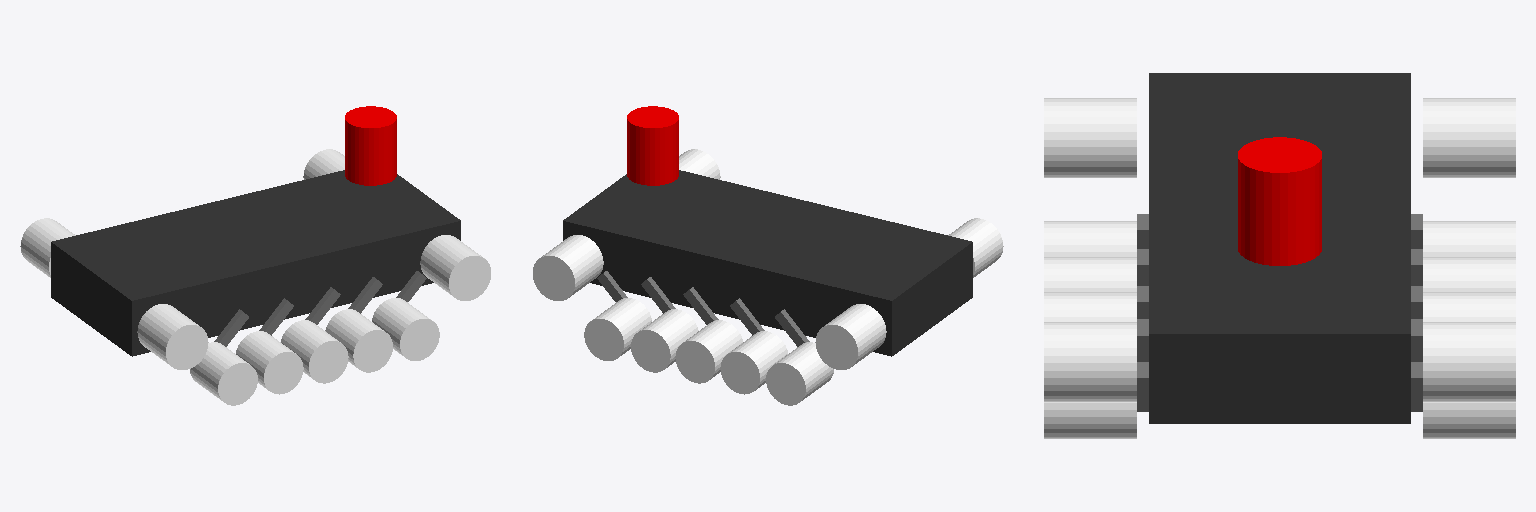
--- Render facts (derived) ---
3 views of the same robot in one strip: view 1: azimuth 30°, elevation 25°; view 2: azimuth 150°, elevation 25°; view 3: azimuth 270°, elevation 25° (orthographic).
Model uWABA with 27 links and 26 joints (10 revolute, 16 fixed), rooted at base_footprint, posed every joint at zero.
Links seen in each view (by area): view 1: base_link, laser_link, Right_wheel.006_link, Right_wheel_sprocket_link, Right_wheel.001_link, Right_wheel.005_link, Right_wheel.002_link, Right_wheel.003_link, Right_wheel.004_link, Left_wheel_sprocket_link, Left_wheel.006_link; view 2: base_link, laser_link, Left_wheel.006_link, Left_wheel_sprocket_link, Left_wheel.001_link, Left_wheel.005_link, Left_wheel.002_link, Left_wheel.003_link, Left_wheel.004_link, Right_wheel_sprocket_link, Right_wheel.006_link; view 3: base_link, laser_link, Left_wheel.006_link, Left_wheel_sprocket_link, Right_wheel.006_link, Right_wheel_sprocket_link, Left_wheel.005_link, Right_wheel.005_link, Left_wheel.001_link, Right_wheel.001_link, Left_wheel.002_link, Right_wheel.002_link (+4 smaller).
Link boxes in pixels (box(x1,y1,x2,y2)): base_link: box(51, 170, 460, 356); laser_link: box(345, 106, 396, 185); Right_wheel.006_link: box(420, 235, 490, 300); Right_wheel_sprocket_link: box(137, 304, 208, 369); Right_wheel.001_link: box(190, 342, 257, 405); Right_wheel.005_link: box(372, 298, 439, 360); Right_wheel.002_link: box(236, 331, 303, 394); Right_wheel.003_link: box(281, 320, 348, 383); Right_wheel.004_link: box(325, 309, 392, 372); Left_wheel_sprocket_link: box(20, 218, 75, 277); Left_wheel.006_link: box(303, 149, 344, 179); base_link: box(563, 170, 972, 356); laser_link: box(627, 106, 678, 185); Left_wheel.006_link: box(533, 235, 603, 300); Left_wheel_sprocket_link: box(815, 304, 886, 369); Left_wheel.001_link: box(766, 342, 833, 405); Left_wheel.005_link: box(584, 298, 651, 360); Left_wheel.002_link: box(720, 331, 787, 394); Left_wheel.003_link: box(675, 320, 742, 383); Left_wheel.004_link: box(631, 309, 698, 372); Right_wheel_sprocket_link: box(948, 218, 1003, 277); Right_wheel.006_link: box(679, 149, 720, 179); base_link: box(1149, 73, 1410, 423); laser_link: box(1238, 137, 1321, 265); Left_wheel.006_link: box(1423, 322, 1515, 401); Left_wheel_sprocket_link: box(1423, 98, 1515, 177); Right_wheel.006_link: box(1044, 322, 1136, 401); Right_wheel_sprocket_link: box(1044, 98, 1136, 177); Left_wheel.005_link: box(1423, 402, 1515, 438); Right_wheel.005_link: box(1044, 402, 1136, 438); Left_wheel.001_link: box(1423, 221, 1515, 256); Right_wheel.001_link: box(1044, 221, 1136, 256); Left_wheel.002_link: box(1423, 257, 1515, 291); Right_wheel.002_link: box(1044, 257, 1136, 291).
Bounding box of the posed robot: 0.248 × 0.1896 × 0.1328 m (x, y, z).
Geometry: primitives only (box / cylinder / sphere), no mesh files.

robot.urdf — uWABA:
<robot name="uWABA" version="1.0">

  <material name="grey">
    <color rgba="0.5 0.5 0.5 1" />
  </material>

  <material name="red">
    <color rgba="1 0 0 0.5" />
  </material>

  <material name="white">
    <color rgba="1 1 1 1" />
  </material>

  <material name="blue">
    <color rgba="0 0 0.5 1" />
  </material>

  <material name="black">
    <color rgba="0.25 0.25 0.25 1" />
  </material>

  <joint name="base_laser_joint" type="fixed">
    <origin rpy="0.0000000000 0.0000000000 0.0000000000" xyz="0.0865522291 -0.0000000015 0.0611436181"/>
    <parent link="base_link"/>
    <child link="laser_link"/>
  </joint>
  <joint name="base_left_small_suspesion.001_joint" type="revolute">
    <limit lower="-0.0872664973" upper="0.0872664973" effort="0.0000000000" velocity="0.0000000000"/>
    <origin rpy="0.0000000000 0.0000000000 0.0000000000" xyz="0.0426865297 0.0552990415 -0.0245030019"/>
    <parent link="base_link"/>
    <child link="Left_small_wheels_frame.001_link"/>
    <axis xyz="0.0000000000 1.0000000000 0.0000000000"/>
  </joint>
  <joint name="base_left_small_suspesion.002_joint" type="revolute">
    <limit lower="-0.0872664973" upper="0.0872664973" effort="0.0000000000" velocity="0.0000000000"/>
    <origin rpy="0.0000000000 0.0000000000 0.0000000000" xyz="0.0108365280 0.0552989968 -0.0245032571"/>
    <parent link="base_link"/>
    <child link="Left_small_wheels_frame.002_link"/>
    <axis xyz="0.0000000000 1.0000000000 0.0000000000"/>
  </joint>
  <joint name="base_left_small_suspesion.003_joint" type="revolute">
    <limit lower="-0.0872664973" upper="0.0872664973" effort="0.0000000000" velocity="0.0000000000"/>
    <origin rpy="0.0000000000 0.0000000000 0.0000000000" xyz="-0.0242170148 0.0552989968 -0.0245032609"/>
    <parent link="base_link"/>
    <child link="Left_small_wheels_frame.003_link"/>
    <axis xyz="0.0000000000 1.0000000000 0.0000000000"/>
  </joint>
  <joint name="base_left_small_suspesion.004_joint" type="revolute">
    <limit lower="-0.0872664973" upper="0.0872664973" effort="0.0000000000" velocity="0.0000000000"/>
    <origin rpy="0.0000000000 0.0000000000 0.0000000000" xyz="-0.0579519530 0.0552990266 -0.0245032683"/>
    <parent link="base_link"/>
    <child link="Left_small_wheels_frame.004_link"/>
    <axis xyz="0.0000000000 1.0000000000 0.0000000000"/>
  </joint>
  <joint name="base_left_small_suspesion_joint" type="revolute">
    <limit lower="-0.0872664973" upper="0.0872664973" effort="0.0000000000" velocity="0.0000000000"/>
    <origin rpy="0.0000000000 0.0000000000 0.0000000000" xyz="0.0790596123 0.0552990415 -0.0245032590"/>
    <parent link="base_link"/>
    <child link="Left_small_wheels_frame_link"/>
    <axis xyz="0.0000000000 1.0000000000 0.0000000000"/>
  </joint>
  <joint name="base_left_wheel.001_joint" type="fixed">
    <origin rpy="0.0000000000 0.0000000000 0.0000000000" xyz="-0.0102820545 0.0209509507 -0.0114647429"/>
    <parent link="Left_small_wheels_frame.004_link"/>
    <child link="Left_wheel.001_link"/>
  </joint>
  <joint name="base_left_wheel.002_joint" type="fixed">
    <origin rpy="0.0000000000 0.0000000000 0.0000000000" xyz="-0.0096230004 0.0209509805 -0.0114647467"/>
    <parent link="Left_small_wheels_frame.003_link"/>
    <child link="Left_wheel.002_link"/>
  </joint>
  <joint name="base_left_wheel.003_joint" type="fixed">
    <origin rpy="0.0000000000 0.0000000000 0.0000000000" xyz="-0.0108365483 0.0209509954 -0.0114647485"/>
    <parent link="Left_small_wheels_frame.002_link"/>
    <child link="Left_wheel.003_link"/>
  </joint>
  <joint name="base_left_wheel.004_joint" type="fixed">
    <origin rpy="0.0000000000 0.0000000000 0.0000000000" xyz="-0.0091175586 0.0209509358 -0.0114649981"/>
    <parent link="Left_small_wheels_frame.001_link"/>
    <child link="Left_wheel.004_link"/>
  </joint>
  <joint name="base_left_wheel.005_joint" type="fixed">
    <origin rpy="0.0000000000 0.0000000000 0.0000000000" xyz="-0.0103706270 0.0209509507 -0.0114647523"/>
    <parent link="Left_small_wheels_frame_link"/>
    <child link="Left_wheel.005_link"/>
  </joint>
  <joint name="base_left_wheel.006_joint" type="fixed">
    <origin rpy="0.0000000000 0.0000000000 0.0000000000" xyz="0.1065519790 0.0762500145 -0.0005410053"/>
    <parent link="base_link"/>
    <child link="Left_wheel.006_link"/>
  </joint>
  <joint name="base_left_wheel_sprocket_joint" type="fixed">
    <origin rpy="0.0000000000 0.0000000000 0.0000000000" xyz="-0.1065520157 0.0762499996 -0.0005410016"/>
    <parent link="base_link"/>
    <child link="Left_wheel_sprocket_link"/>
  </joint>
  <joint name="base_link_joint" type="fixed">
    <origin rpy="0.0000000000 0.0000000000 0.0000000000" xyz="0.0000000109 0.0000000022 0.0532330014"/>
    <parent link="base_footprint"/>
    <child link="base_link"/>
  </joint>
  <joint name="base_right_small_suspesion.001_joint" type="revolute">
    <limit lower="-0.0872664973" upper="0.0872664973" effort="0.0000000000" velocity="0.0000000000"/>
    <origin rpy="0.0000000000 0.0000000000 0.0000000000" xyz="0.0426865372 -0.0552989601 -0.0245032553"/>
    <parent link="base_link"/>
    <child link="Right_small_wheels_frame.001_link"/>
    <axis xyz="0.0000000000 1.0000000000 0.0000000000"/>
  </joint>
  <joint name="base_right_small_suspesion.002_joint" type="revolute">
    <limit lower="-0.0872664973" upper="0.0872664973" effort="0.0000000000" velocity="0.0000000000"/>
    <origin rpy="0.0000000000 0.0000000000 0.0000000000" xyz="0.0108365354 -0.0552990123 -0.0245032609"/>
    <parent link="base_link"/>
    <child link="Right_small_wheels_frame.002_link"/>
    <axis xyz="0.0000000000 1.0000000000 0.0000000000"/>
  </joint>
  <joint name="base_right_small_suspesion.003_joint" type="revolute">
    <limit lower="-0.0872664973" upper="0.0872664973" effort="0.0000000000" velocity="0.0000000000"/>
    <origin rpy="0.0000000000 0.0000000000 0.0000000000" xyz="-0.0242173222 -0.0552990048 -0.0245032609"/>
    <parent link="base_link"/>
    <child link="Right_small_wheels_frame.003_link"/>
    <axis xyz="0.0000000000 1.0000000000 0.0000000000"/>
  </joint>
  <joint name="base_right_small_suspesion.004_joint" type="revolute">
    <limit lower="-0.0872664973" upper="0.0872664973" effort="0.0000000000" velocity="0.0000000000"/>
    <origin rpy="0.0000000000 0.0000000000 0.0000000000" xyz="-0.0579519418 -0.0552989638 -0.0245032646"/>
    <parent link="base_link"/>
    <child link="Right_small_wheels_frame.004_link"/>
    <axis xyz="0.0000000000 1.0000000000 0.0000000000"/>
  </joint>
  <joint name="base_right_small_suspesion_joint" type="revolute">
    <limit lower="-0.0872664973" upper="0.0872664973" effort="0.0000000000" velocity="0.0000000000"/>
    <origin rpy="0.0000000000 0.0000000000 0.0000000000" xyz="0.0790596197 -0.0552989564 -0.0245032609"/>
    <parent link="base_link"/>
    <child link="Right_small_wheels_frame_link"/>
    <axis xyz="0.0000000000 1.0000000000 0.0000000000"/>
  </joint>
  <joint name="base_right_wheel.001_joint" type="fixed">
    <origin rpy="0.0000000000 0.0000000000 0.0000000000" xyz="-0.0102820508 -0.0209510401 -0.0114647429"/>
    <parent link="Right_small_wheels_frame.004_link"/>
    <child link="Right_wheel.001_link"/>
  </joint>
  <joint name="base_right_wheel.002_joint" type="fixed">
    <origin rpy="0.0000000000 0.0000000000 0.0000000000" xyz="-0.0096226707 -0.0209510215 -0.0114647485"/>
    <parent link="Right_small_wheels_frame.003_link"/>
    <child link="Right_wheel.002_link"/>
  </joint>
  <joint name="base_right_wheel.003_joint" type="fixed">
    <origin rpy="0.0000000000 0.0000000000 0.0000000000" xyz="-0.0108365374 -0.0209509768 -0.0114647448"/>
    <parent link="Right_small_wheels_frame.002_link"/>
    <child link="Right_wheel.003_link"/>
  </joint>
  <joint name="base_right_wheel.004_joint" type="fixed">
    <origin rpy="0.0000000000 0.0000000000 0.0000000000" xyz="-0.0091175474 -0.0209510438 -0.0114647504"/>
    <parent link="Right_small_wheels_frame.001_link"/>
    <child link="Right_wheel.004_link"/>
  </joint>
  <joint name="base_right_wheel.005_joint" type="fixed">
    <origin rpy="0.0000000000 0.0000000000 0.0000000000" xyz="-0.0103706494 -0.0209510326 -0.0114647336"/>
    <parent link="Right_small_wheels_frame_link"/>
    <child link="Right_wheel.005_link"/>
  </joint>
  <joint name="base_right_wheel.006_joint" type="fixed">
    <origin rpy="0.0000000000 0.0000000000 0.0000000000" xyz="0.1065519939 -0.0762499890 -0.0005410090"/>
    <parent link="base_link"/>
    <child link="Right_wheel.006_link"/>
  </joint>
  <joint name="base_right_wheel_sprocket_joint" type="fixed">
    <origin rpy="0.0000000000 0.0000000000 0.0000000000" xyz="-0.1065520083 -0.0762500114 -0.0005410053"/>
    <parent link="base_link"/>
    <child link="Right_wheel_sprocket_link"/>
  </joint>
  <link name="Left_small_wheels_frame.001_link">
    <collision name="Left_small_wheels_frame.001_collision">
      <origin rpy="0.0000000000 -0.7853982406 0.0000000000" xyz="0.0000000037 -0.0000000037 0.0000000000"/>
      <geometry>
        <box size="0.0494383872 0.0048000002 0.0069306139"/>
      </geometry>
    </collision>
    <inertial>
      <inertia ixx="0.0000010576" ixy="0.0000000000" ixz="-0.0000009984" iyy="0.0000020768" iyz="0.0000000000" izz="0.0000010576"/>
      <origin rpy="0.0000000000 0.0000000000 0.0000000000" xyz="0.0000000037 -0.0000000037 0.0000000000"/>
      <mass value="0.0099999998"/>
    </inertial>
    <visual name="Left_small_wheels_frame.001">
      <material name="grey" />
      <origin rpy="0.0000000000 -0.7853981563 0.0000000000" xyz="0.0000000037 -0.0000000037 0.0000000000"/>
      <geometry>
        <box size="0.0494383872 0.0048000002 0.0069306139"/>
      </geometry>
    </visual>
  </link>
  <link name="Left_small_wheels_frame.002_link">
    <collision name="Left_small_wheels_frame.002_collision">
      <origin rpy="0.0000000000 -0.7853982406 0.0000000000" xyz="0.0000000009 0.0000000037 0.0000000019"/>
      <geometry>
        <box size="0.0494383946 0.0048000012 0.0069306139"/>
      </geometry>
    </collision>
    <inertial>
      <inertia ixx="0.0000010576" ixy="0.0000000000" ixz="-0.0000009984" iyy="0.0000020768" iyz="0.0000000000" izz="0.0000010576"/>
      <origin rpy="0.0000000000 0.0000000000 0.0000000000" xyz="0.0000000019 0.0000000037 0.0000000019"/>
      <mass value="0.0099999998"/>
    </inertial>
    <visual name="Left_small_wheels_frame.002">
      <material name="grey" />
      <origin rpy="0.0000000000 -0.7853981563 0.0000000000" xyz="0.0000000019 0.0000000037 0.0000000019"/>
      <geometry>
        <box size="0.0494383946 0.0048000016 0.0069306139"/>
      </geometry>
    </visual>
  </link>
  <link name="Left_small_wheels_frame.003_link">
    <collision name="Left_small_wheels_frame.003_collision">
      <origin rpy="0.0000000000 -0.7853982406 0.0000000000" xyz="0.0000000000 0.0000000037 0.0000000019"/>
      <geometry>
        <box size="0.0494383872 0.0047999993 0.0069306139"/>
      </geometry>
    </collision>
    <inertial>
      <inertia ixx="0.0000010576" ixy="0.0000000000" ixz="-0.0000009984" iyy="0.0000020768" iyz="0.0000000000" izz="0.0000010576"/>
      <origin rpy="0.0000000000 0.0000000000 0.0000000000" xyz="0.0000000000 0.0000000037 0.0000000019"/>
      <mass value="0.0099999998"/>
    </inertial>
    <visual name="Left_small_wheels_frame.003">
      <material name="grey" />
      <origin rpy="0.0000000000 -0.7853981563 0.0000000000" xyz="0.0000000000 0.0000000037 0.0000000019"/>
      <geometry>
        <box size="0.0494383872 0.0047999993 0.0069306139"/>
      </geometry>
    </visual>
  </link>
  <link name="Left_small_wheels_frame.004_link">
    <collision name="Left_small_wheels_frame.004_collision">
      <origin rpy="-0.0000000000 -0.7853982755 -0.0000000000" xyz="-0.0000000037 0.0000000037 0.0000000037"/>
      <geometry>
        <box size="0.0494383946 0.0048000002 0.0069306148"/>
      </geometry>
    </collision>
    <inertial>
      <inertia ixx="0.0000010576" ixy="0.0000000000" ixz="-0.0000009984" iyy="0.0000020768" iyz="0.0000000000" izz="0.0000010576"/>
      <origin rpy="0.0000000000 0.0000000000 0.0000000000" xyz="-0.0000000037 0.0000000037 0.0000000019"/>
      <mass value="0.0099999998"/>
    </inertial>
    <visual name="Left_small_wheels_frame.004">
      <material name="grey" />
      <origin rpy="-0.0000000000 -0.7853983351 -0.0000000000" xyz="-0.0000000037 0.0000000037 0.0000000019"/>
      <geometry>
        <box size="0.0494383872 0.0047999998 0.0069306134"/>
      </geometry>
    </visual>
  </link>
  <link name="Left_small_wheels_frame_link">
    <collision name="Left_small_wheels_frame_collision">
      <origin rpy="0.0000000000 -0.7853982406 0.0000000000" xyz="0.0000000075 0.0000000037 0.0000000019"/>
      <geometry>
        <box size="0.0400260091 0.0048000002 0.0069306148"/>
      </geometry>
    </collision>
    <inertial>
      <inertia ixx="0.0000007067" ixy="0.0000000000" ixz="-0.0000006475" iyy="0.0000013751" iyz="0.0000000000" izz="0.0000007067"/>
      <origin rpy="0.0000000000 0.0000000000 0.0000000000" xyz="0.0000000075 0.0000000037 0.0000000019"/>
      <mass value="0.0099999998"/>
    </inertial>
    <visual name="Left_small_wheels_frame">
      <material name="grey" />
      <origin rpy="0.0000000000 -0.7853982406 0.0000000000" xyz="0.0000000075 0.0000000037 0.0000000019"/>
      <geometry>
        <box size="0.0400260054 0.0048000012 0.0069306139"/>
      </geometry>
    </visual>
  </link>
  <link name="Left_wheel.001_link">
    <collision name="Left_wheel.001_collision">
      <origin rpy="-1.5707960129 -0.0000000000 0.0000000000" xyz="0.0000000000 -0.0000000224 0.0000000019"/>
      <geometry>
        <cylinder radius="0.0150000015" length="0.0370999947"/>
      </geometry>
    </collision>
    <inertial>
      <inertia ixx="0.0000085475" ixy="0.0000000000" ixz="-0.0000000000" iyy="0.0000056250" iyz="-0.0000000000" izz="0.0000085475"/>
      <origin rpy="0.0000000000 0.0000000000 0.0000000000" xyz="0.0000000000 -0.0000000224 0.0000000019"/>
      <mass value="0.0500000007"/>
    </inertial>
    <visual name="Left_wheel.001">
      <material name="white" />
      <origin rpy="-1.5707960129 -0.0000000000 0.0000000000" xyz="0.0000000000 -0.0000000224 0.0000000019"/>
      <geometry>
        <cylinder radius="0.0149999978" length="0.0370999910"/>
      </geometry>
    </visual>
  </link>
  <link name="Left_wheel.002_link">
    <collision name="Left_wheel.002_collision">
      <origin rpy="-1.5707960129 -0.0000000000 0.0000000000" xyz="0.0000000000 -0.0000000224 0.0000000056"/>
      <geometry>
        <cylinder radius="0.0150000015" length="0.0370999947"/>
      </geometry>
    </collision>
    <inertial>
      <inertia ixx="0.0000085475" ixy="-0.0000000000" ixz="0.0000000000" iyy="0.0000056250" iyz="-0.0000000000" izz="0.0000085475"/>
      <origin rpy="0.0000000000 0.0000000000 0.0000000000" xyz="0.0000000000 -0.0000000224 0.0000000056"/>
      <mass value="0.0500000007"/>
    </inertial>
    <visual name="Left_wheel.002">
      <material name="white" />
      <origin rpy="-1.5707960129 -0.0000000000 0.0000000000" xyz="0.0000000000 -0.0000000224 0.0000000056"/>
      <geometry>
        <cylinder radius="0.0149999978" length="0.0370999910"/>
      </geometry>
    </visual>
  </link>
  <link name="Left_wheel.003_link">
    <collision name="Left_wheel.003_collision">
      <origin rpy="-1.5707960129 -0.0000000000 0.0000000000" xyz="0.0000000000 -0.0000000224 -0.0000000037"/>
      <geometry>
        <cylinder radius="0.0150000015" length="0.0370999984"/>
      </geometry>
    </collision>
    <inertial>
      <inertia ixx="0.0000085475" ixy="-0.0000000000" ixz="0.0000000000" iyy="0.0000056250" iyz="-0.0000000000" izz="0.0000085475"/>
      <origin rpy="0.0000000000 0.0000000000 0.0000000000" xyz="0.0000000000 -0.0000000224 -0.0000000019"/>
      <mass value="0.0500000007"/>
    </inertial>
    <visual name="Left_wheel.003">
      <material name="white" />
      <origin rpy="-1.5707960129 -0.0000000000 0.0000000000" xyz="0.0000000000 -0.0000000224 -0.0000000019"/>
      <geometry>
        <cylinder radius="0.0149999969" length="0.0370999910"/>
      </geometry>
    </visual>
  </link>
  <link name="Left_wheel.004_link">
    <collision name="Left_wheel.004_collision">
      <origin rpy="-1.5707960129 -0.0000000000 0.0000000000" xyz="0.0000000000 -0.0000000149 0.0000000019"/>
      <geometry>
        <cylinder radius="0.0150000015" length="0.0370999947"/>
      </geometry>
    </collision>
    <inertial>
      <inertia ixx="0.0000085475" ixy="-0.0000000000" ixz="0.0000000000" iyy="0.0000056250" iyz="-0.0000000000" izz="0.0000085475"/>
      <origin rpy="0.0000000000 0.0000000000 0.0000000000" xyz="0.0000000000 -0.0000000149 0.0000000019"/>
      <mass value="0.0500000007"/>
    </inertial>
    <visual name="Left_wheel.004">
      <material name="white" />
      <origin rpy="-1.5707960129 -0.0000000000 0.0000000000" xyz="0.0000000000 -0.0000000149 0.0000000019"/>
      <geometry>
        <cylinder radius="0.0149999987" length="0.0370999910"/>
      </geometry>
    </visual>
  </link>
  <link name="Left_wheel.005_link">
    <collision name="Left_wheel.005_collision">
      <origin rpy="-1.5707960129 -0.0000000000 0.0000000000" xyz="0.0000000075 -0.0000000075 -0.0000000037"/>
      <geometry>
        <cylinder radius="0.0150000015" length="0.0370999947"/>
      </geometry>
    </collision>
    <inertial>
      <inertia ixx="0.0000085475" ixy="-0.0000000000" ixz="0.0000000000" iyy="0.0000056250" iyz="-0.0000000000" izz="0.0000085475"/>
      <origin rpy="0.0000000000 0.0000000000 0.0000000000" xyz="0.0000000075 -0.0000000075 -0.0000000037"/>
      <mass value="0.0500000007"/>
    </inertial>
    <visual name="Left_wheel.005">
      <material name="white" />
      <origin rpy="-1.5707960129 -0.0000000000 0.0000000000" xyz="0.0000000075 -0.0000000075 -0.0000000037"/>
      <geometry>
        <cylinder radius="0.0150000006" length="0.0370999947"/>
      </geometry>
    </visual>
  </link>
  <link name="Left_wheel.006_link">
    <collision name="Left_wheel.006_collision">
      <origin rpy="-1.5707956553 0.0000000000 0.0000000000" xyz="0.0000000000 -0.0000000075 0.0000000000"/>
      <geometry>
        <cylinder radius="0.0161000006" length="0.0371000022"/>
      </geometry>
    </collision>
    <inertial>
      <inertia ixx="0.0000089752" ixy="0.0000000000" ixz="0.0000000000" iyy="0.0000064803" iyz="-0.0000000000" izz="0.0000089752"/>
      <origin rpy="0.0000000000 0.0000000000 0.0000000000" xyz="0.0000000000 -0.0000000075 0.0000000000"/>
      <mass value="0.0500000007"/>
    </inertial>
    <visual name="Left_wheel.006">
      <material name="white" />
      <origin rpy="-1.5707956553 0.0000000000 0.0000000000" xyz="0.0000000000 -0.0000000075 0.0000000000"/>
      <geometry>
        <cylinder radius="0.0161000006" length="0.0370999984"/>
      </geometry>
    </visual>
  </link>
  <link name="Left_wheel_sprocket_link">
    <collision name="Left_wheel_sprocket_collision">
      <origin rpy="-1.5707956553 0.0000000000 0.0000000000" xyz="0.0000000000 0.0000000000 -0.0000000075"/>
      <geometry>
        <cylinder radius="0.0161000006" length="0.0371000022"/>
      </geometry>
    </collision>
    <inertial>
      <inertia ixx="0.0000089752" ixy="0.0000000000" ixz="0.0000000000" iyy="0.0000064803" iyz="-0.0000000000" izz="0.0000089752"/>
      <origin rpy="0.0000000000 0.0000000000 0.0000000000" xyz="0.0000000000 0.0000000000 -0.0000000075"/>
      <mass value="0.0500000007"/>
    </inertial>
    <visual name="Left_wheel_sprocket">
      <material name="white" />
      <origin rpy="-1.5707956553 0.0000000000 0.0000000000" xyz="0.0000000000 0.0000000000 -0.0000000075"/>
      <geometry>
        <cylinder radius="0.0161000006" length="0.0370999984"/>
      </geometry>
    </visual>
  </link>
  <link name="Right_small_wheels_frame.001_link">
    <collision name="Right_small_wheels_frame.001_collision">
      <origin rpy="-0.0000000000 -0.7853982406 0.0000000000" xyz="0.0000000000 -0.0000000037 0.0000000037"/>
      <geometry>
        <box size="0.0494383946 0.0048000067 0.0069306148"/>
      </geometry>
    </collision>
    <inertial>
      <inertia ixx="0.0000010576" ixy="-0.0000000000" ixz="-0.0000009984" iyy="0.0000020768" iyz="-0.0000000000" izz="0.0000010576"/>
      <origin rpy="0.0000000000 0.0000000000 0.0000000000" xyz="0.0000000000 -0.0000000037 0.0000000037"/>
      <mass value="0.0099999998"/>
    </inertial>
    <visual name="Right_small_wheels_frame.001">
      <material name="grey" />
      <origin rpy="-0.0000000000 -0.7853982406 0.0000000000" xyz="0.0000000000 -0.0000000037 0.0000000037"/>
      <geometry>
        <box size="0.0494383872 0.0048000072 0.0069306139"/>
      </geometry>
    </visual>
  </link>
  <link name="Right_small_wheels_frame.002_link">
    <collision name="Right_small_wheels_frame.002_collision">
      <origin rpy="0.0000000000 -0.7853982406 0.0000000000" xyz="-0.0000000009 -0.0000000037 0.0000000019"/>
      <geometry>
        <box size="0.0494383946 0.0048000012 0.0069306139"/>
      </geometry>
    </collision>
    <inertial>
      <inertia ixx="0.0000010576" ixy="0.0000000000" ixz="-0.0000009984" iyy="0.0000020768" iyz="0.0000000000" izz="0.0000010576"/>
      <origin rpy="0.0000000000 0.0000000000 0.0000000000" xyz="0.0000000000 -0.0000000037 0.0000000019"/>
      <mass value="0.0099999998"/>
    </inertial>
    <visual name="Right_small_wheels_frame.002">
      <material name="grey" />
      <origin rpy="0.0000000000 -0.7853981563 0.0000000000" xyz="0.0000000000 -0.0000000037 0.0000000019"/>
      <geometry>
        <box size="0.0494383946 0.0048000016 0.0069306139"/>
      </geometry>
    </visual>
  </link>
  <link name="Right_small_wheels_frame.003_link">
    <collision name="Right_small_wheels_frame.003_collision">
      <origin rpy="-0.0000000000 -0.7853982406 0.0000000000" xyz="0.0000000000 -0.0000000037 0.0000000019"/>
      <geometry>
        <box size="0.0494383946 0.0047999993 0.0069306148"/>
      </geometry>
    </collision>
    <inertial>
      <inertia ixx="0.0000010576" ixy="-0.0000000000" ixz="-0.0000009984" iyy="0.0000020768" iyz="-0.0000000000" izz="0.0000010576"/>
      <origin rpy="0.0000000000 0.0000000000 0.0000000000" xyz="0.0000000000 -0.0000000037 0.0000000019"/>
      <mass value="0.0099999998"/>
    </inertial>
    <visual name="Right_small_wheels_frame.003">
      <material name="grey" />
      <origin rpy="-0.0000000000 -0.7853982406 0.0000000000" xyz="0.0000000000 -0.0000000037 0.0000000019"/>
      <geometry>
        <box size="0.0494383872 0.0047999998 0.0069306139"/>
      </geometry>
    </visual>
  </link>
  <link name="Right_small_wheels_frame.004_link">
    <collision name="Right_small_wheels_frame.004_collision">
      <origin rpy="-0.0000000000 -0.7853982755 -0.0000000000" xyz="-0.0000000037 0.0000000000 0.0000000019"/>
      <geometry>
        <box size="0.0494383946 0.0048000002 0.0069306148"/>
      </geometry>
    </collision>
    <inertial>
      <inertia ixx="0.0000010576" ixy="0.0000000000" ixz="-0.0000009984" iyy="0.0000020768" iyz="0.0000000000" izz="0.0000010576"/>
      <origin rpy="0.0000000000 0.0000000000 0.0000000000" xyz="-0.0000000037 0.0000000000 0.0000000000"/>
      <mass value="0.0099999998"/>
    </inertial>
    <visual name="Right_small_wheels_frame.004">
      <material name="grey" />
      <origin rpy="-0.0000000000 -0.7853983351 -0.0000000000" xyz="-0.0000000037 0.0000000000 0.0000000000"/>
      <geometry>
        <box size="0.0494383872 0.0047999998 0.0069306134"/>
      </geometry>
    </visual>
  </link>
  <link name="Right_small_wheels_frame_link">
    <collision name="Right_small_wheels_frame_collision">
      <origin rpy="0.0000000000 -0.7853982406 0.0000000000" xyz="-0.0000000075 -0.0000000037 0.0000000019"/>
      <geometry>
        <box size="0.0400260091 0.0048000002 0.0069306148"/>
      </geometry>
    </collision>
    <inertial>
      <inertia ixx="0.0000007067" ixy="0.0000000000" ixz="-0.0000006475" iyy="0.0000013751" iyz="0.0000000000" izz="0.0000007067"/>
      <origin rpy="0.0000000000 0.0000000000 0.0000000000" xyz="-0.0000000075 -0.0000000037 0.0000000019"/>
      <mass value="0.0099999998"/>
    </inertial>
    <visual name="Right_small_wheels_frame">
      <material name="grey" />
      <origin rpy="0.0000000000 -0.7853982406 0.0000000000" xyz="-0.0000000075 -0.0000000037 0.0000000019"/>
      <geometry>
        <box size="0.0400260054 0.0048000007 0.0069306139"/>
      </geometry>
    </visual>
  </link>
  <link name="Right_wheel.001_link">
    <collision name="Right_wheel.001_collision">
      <origin rpy="-1.5707960129 -0.0000000000 0.0000000000" xyz="-0.0000000075 0.0000000075 -0.0000000037"/>
      <geometry>
        <cylinder radius="0.0150000006" length="0.0371000022"/>
      </geometry>
    </collision>
    <inertial>
      <inertia ixx="0.0000085475" ixy="0.0000000000" ixz="-0.0000000000" iyy="0.0000056250" iyz="-0.0000000000" izz="0.0000085475"/>
      <origin rpy="0.0000000000 0.0000000000 0.0000000000" xyz="-0.0000000075 0.0000000075 -0.0000000037"/>
      <mass value="0.0500000007"/>
    </inertial>
    <visual name="Right_wheel.001">
      <material name="white" />
      <origin rpy="-1.5707960129 -0.0000000000 0.0000000000" xyz="-0.0000000075 0.0000000075 -0.0000000037"/>
      <geometry>
        <cylinder radius="0.0149999997" length="0.0370999984"/>
      </geometry>
    </visual>
  </link>
  <link name="Right_wheel.002_link">
    <collision name="Right_wheel.002_collision">
      <origin rpy="-1.5707960129 -0.0000000000 0.0000000000" xyz="0.0000000037 -0.0000000075 -0.0000000019"/>
      <geometry>
        <cylinder radius="0.0150000006" length="0.0371000022"/>
      </geometry>
    </collision>
    <inertial>
      <inertia ixx="0.0000085475" ixy="-0.0000000000" ixz="0.0000000000" iyy="0.0000056250" iyz="-0.0000000000" izz="0.0000085475"/>
      <origin rpy="0.0000000000 0.0000000000 0.0000000000" xyz="0.0000000037 -0.0000000075 -0.0000000019"/>
      <mass value="0.0500000007"/>
    </inertial>
    <visual name="Right_wheel.002">
      <material name="white" />
      <origin rpy="-1.5707960129 -0.0000000000 0.0000000000" xyz="0.0000000037 -0.0000000075 -0.0000000019"/>
      <geometry>
        <cylinder radius="0.0150000006" length="0.0371000022"/>
      </geometry>
    </visual>
  </link>
  <link name="Right_wheel.003_link">
    <collision name="Right_wheel.003_collision">
      <origin rpy="-1.5707960129 -0.0000000000 0.0000000000" xyz="0.0000000009 0.0000000075 -0.0000000075"/>
      <geometry>
        <cylinder radius="0.0150000006" length="0.0371000022"/>
      </geometry>
    </collision>
    <inertial>
      <inertia ixx="0.0000085475" ixy="-0.0000000000" ixz="0.0000000000" iyy="0.0000056250" iyz="-0.0000000000" izz="0.0000085475"/>
      <origin rpy="0.0000000000 0.0000000000 0.0000000000" xyz="0.0000000019 0.0000000075 -0.0000000075"/>
      <mass value="0.0500000007"/>
    </inertial>
    <visual name="Right_wheel.003">
      <material name="white" />
      <origin rpy="-1.5707960129 -0.0000000000 0.0000000000" xyz="0.0000000019 0.0000000075 -0.0000000075"/>
      <geometry>
        <cylinder radius="0.0149999997" length="0.0370999984"/>
      </geometry>
    </visual>
  </link>
  <link name="Right_wheel.004_link">
    <collision name="Right_wheel.004_collision">
      <origin rpy="-1.5707960129 -0.0000000000 0.0000000000" xyz="0.0000000075 0.0000000075 -0.0000000037"/>
      <geometry>
        <cylinder radius="0.0150000006" length="0.0371000022"/>
      </geometry>
    </collision>
    <inertial>
      <inertia ixx="0.0000085475" ixy="-0.0000000000" ixz="0.0000000000" iyy="0.0000056250" iyz="-0.0000000000" izz="0.0000085475"/>
      <origin rpy="0.0000000000 0.0000000000 0.0000000000" xyz="0.0000000075 0.0000000075 -0.0000000037"/>
      <mass value="0.0500000007"/>
    </inertial>
    <visual name="Right_wheel.004">
      <material name="white" />
      <origin rpy="-1.5707960129 -0.0000000000 0.0000000000" xyz="0.0000000075 0.0000000075 -0.0000000037"/>
      <geometry>
        <cylinder radius="0.0150000006" length="0.0371000022"/>
      </geometry>
    </visual>
  </link>
  <link name="Right_wheel.005_link">
    <collision name="Right_wheel.005_collision">
      <origin rpy="-1.5707960129 -0.0000000000 0.0000000000" xyz="0.0000000000 0.0000000000 0.0000000019"/>
      <geometry>
        <cylinder radius="0.0150000006" length="0.0371000022"/>
      </geometry>
    </collision>
    <inertial>
      <inertia ixx="0.0000085475" ixy="-0.0000000000" ixz="0.0000000000" iyy="0.0000056250" iyz="-0.0000000000" izz="0.0000085475"/>
      <origin rpy="0.0000000000 0.0000000000 0.0000000000" xyz="0.0000000000 0.0000000000 0.0000000019"/>
      <mass value="0.0500000007"/>
    </inertial>
    <visual name="Right_wheel.005">
      <material name="white" />
      <origin rpy="-1.5707960129 -0.0000000000 0.0000000000" xyz="0.0000000000 0.0000000000 0.0000000019"/>
      <geometry>
        <cylinder radius="0.0150000006" length="0.0371000022"/>
      </geometry>
    </visual>
  </link>
  <link name="Right_wheel.006_link">
    <collision name="Right_wheel.006_collision">
      <origin rpy="-1.5707956553 0.0000000000 0.0000000000" xyz="-0.0000000075 -0.0000000075 0.0000000037"/>
      <geometry>
        <cylinder radius="0.0161000006" length="0.0370999947"/>
      </geometry>
    </collision>
    <inertial>
      <inertia ixx="0.0000089752" ixy="-0.0000000000" ixz="-0.0000000000" iyy="0.0000064802" iyz="-0.0000000000" izz="0.0000089752"/>
      <origin rpy="0.0000000000 0.0000000000 0.0000000000" xyz="-0.0000000075 -0.0000000075 0.0000000037"/>
      <mass value="0.0500000007"/>
    </inertial>
    <visual name="Right_wheel.006">
      <material name="white" />
      <origin rpy="-1.5707956553 0.0000000000 0.0000000000" xyz="-0.0000000075 -0.0000000075 0.0000000037"/>
      <geometry>
        <cylinder radius="0.0160999987" length="0.0370999910"/>
      </geometry>
    </visual>
  </link>
  <link name="Right_wheel_sprocket_link">
    <collision name="Right_wheel_sprocket_collision">
      <origin rpy="-1.5707956553 0.0000000000 0.0000000000" xyz="0.0000000000 0.0000000000 0.0000000037"/>
      <geometry>
        <cylinder radius="0.0161000006" length="0.0370999947"/>
      </geometry>
    </collision>
    <inertial>
      <inertia ixx="0.0000089752" ixy="-0.0000000000" ixz="-0.0000000000" iyy="0.0000064802" iyz="-0.0000000000" izz="0.0000089752"/>
      <origin rpy="0.0000000000 0.0000000000 0.0000000000" xyz="0.0000000000 0.0000000000 0.0000000037"/>
      <mass value="0.0500000007"/>
    </inertial>
    <visual name="Right_wheel_sprocket">
      <material name="white" />
      <origin rpy="-1.5707956553 0.0000000000 0.0000000000" xyz="0.0000000000 0.0000000000 0.0000000037"/>
      <geometry>
        <cylinder radius="0.0160999987" length="0.0370999910"/>
      </geometry>
    </visual>
  </link>
  <link name="base_footprint"/>
  <link name="base_link">
    <collision name="base_collision">
      <origin rpy="0.0000000000 0.0000000000 0.0000000000" xyz="-0.0000000000 -0.0000000000 -0.0000000075"/>
      <geometry>
        <box size="0.2480000108 0.1058000028 0.0401000008"/>
      </geometry>
    </collision>
    <inertial>
      <inertia ixx="0.0010668042" ixy="0.0000000000" ixz="0.0000000000" iyy="0.0052593346" iyz="0.0000000000" izz="0.0060581372"/>
      <origin rpy="0.0000000000 0.0000000000 0.0000000000" xyz="-0.0000000000 -0.0000000000 -0.0000000075"/>
      <mass value="1.0000000000"/>
    </inertial>
    <visual name="base">
      <material name="black" />
      <origin rpy="0.0000000000 0.0000000000 0.0000000000" xyz="-0.0000000000 -0.0000000000 -0.0000000075"/>
      <geometry>
        <box size="0.2480000108 0.1058000028 0.0401000008"/>
      </geometry>
    </visual>
  </link>
  <link name="laser_link">
    <collision name="laser_collision">
      <origin rpy="0.0000000000 0.0000000000 0.0000000000" xyz="0.0000000000 -0.0000000000 -0.0000000075"/>
      <geometry>
        <cylinder radius="0.0170875005" length="0.0413499996"/>
      </geometry>
    </collision>
    <inertial>
      <inertia ixx="0.0000538702" ixy="0.0000000000" ixz="0.0000000000" iyy="0.0000538702" iyz="0.0000000000" izz="0.0000364978"/>
      <origin rpy="0.0000000000 0.0000000000 0.0000000000" xyz="0.0000000000 -0.0000000000 -0.0000000075"/>
      <mass value="0.2500000000"/>
    </inertial>
    <visual name="laser">
      <material name="red" />
      <origin rpy="0.0000000000 0.0000000000 0.0000000000" xyz="0.0000000000 -0.0000000000 -0.0000000075"/>
      <geometry>
        <cylinder radius="0.0170875005" length="0.0413499996"/>
      </geometry>
    </visual>
  </link>
</robot>
